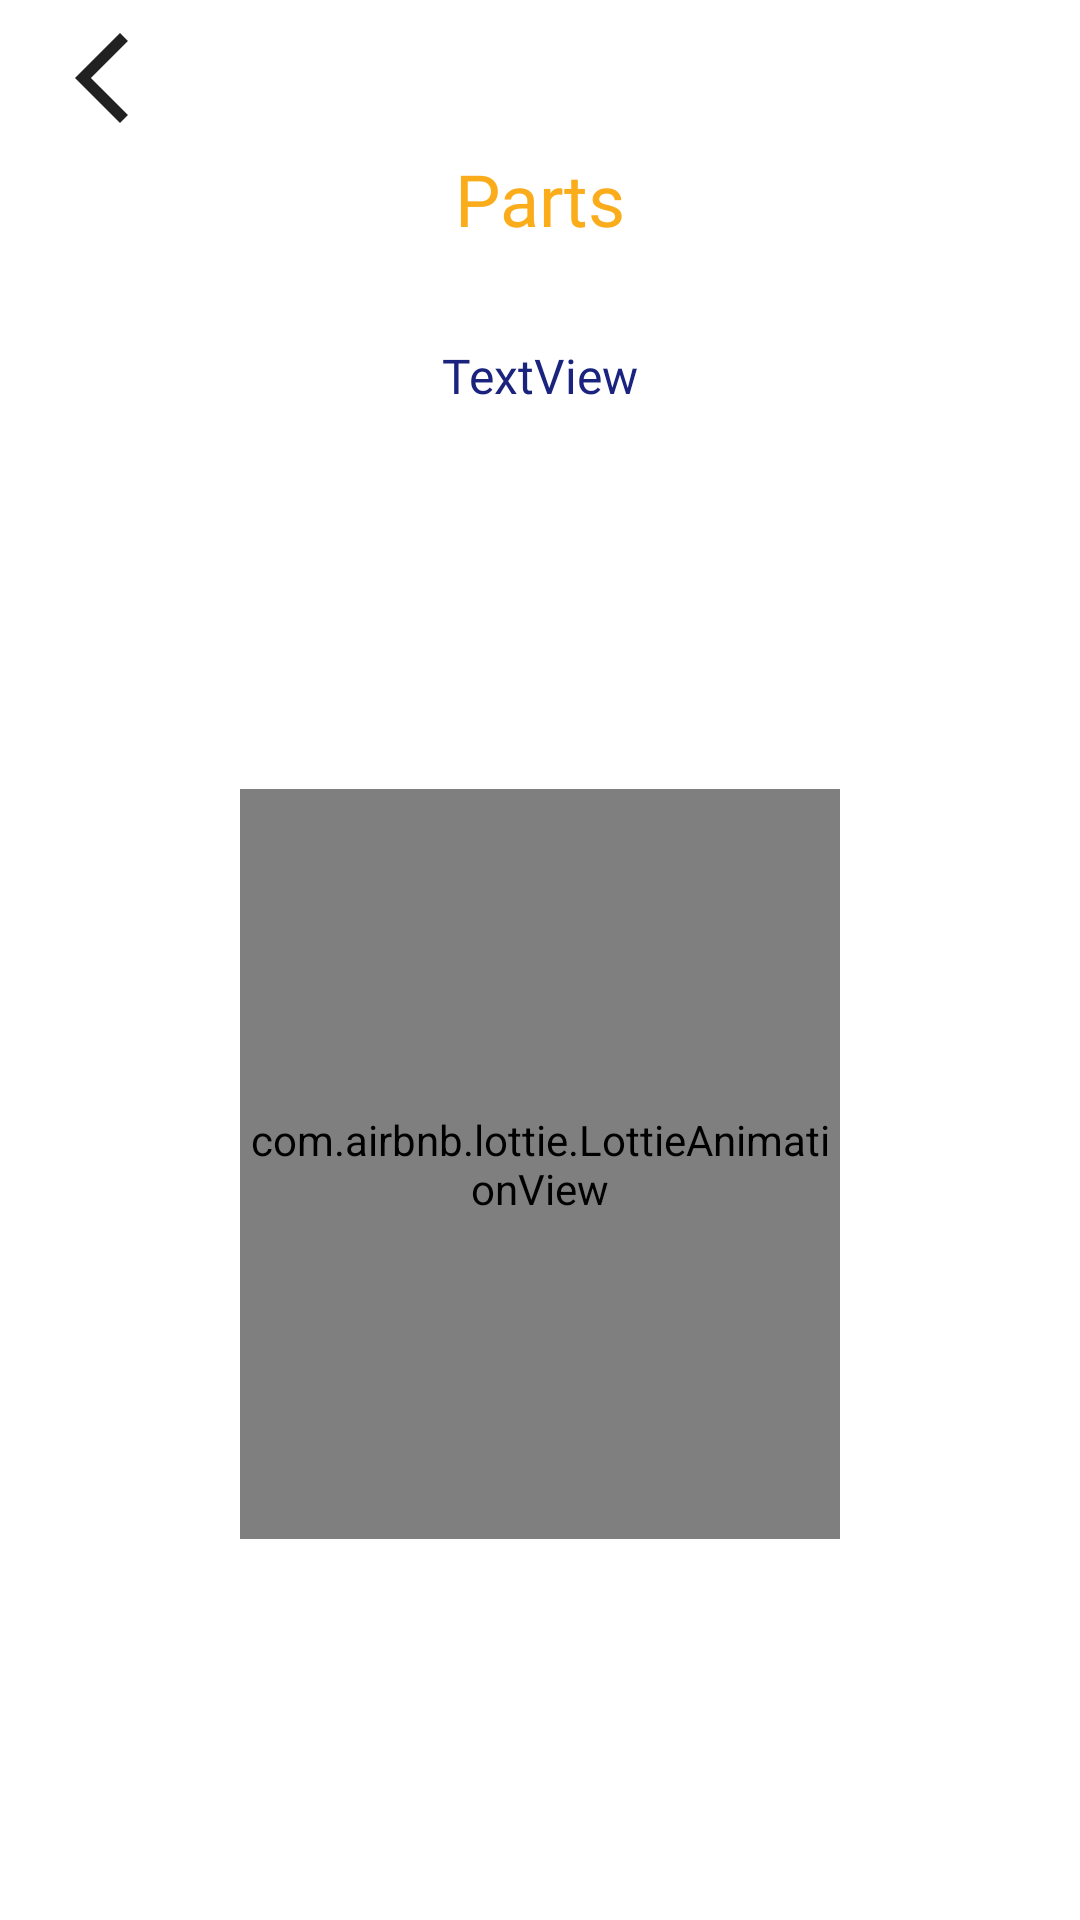

Where to tap for icons on this 1080px×1920px app screen, as (x,y):
back: (101,78)
